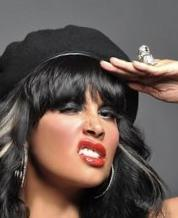face: (57, 99, 118, 169)
